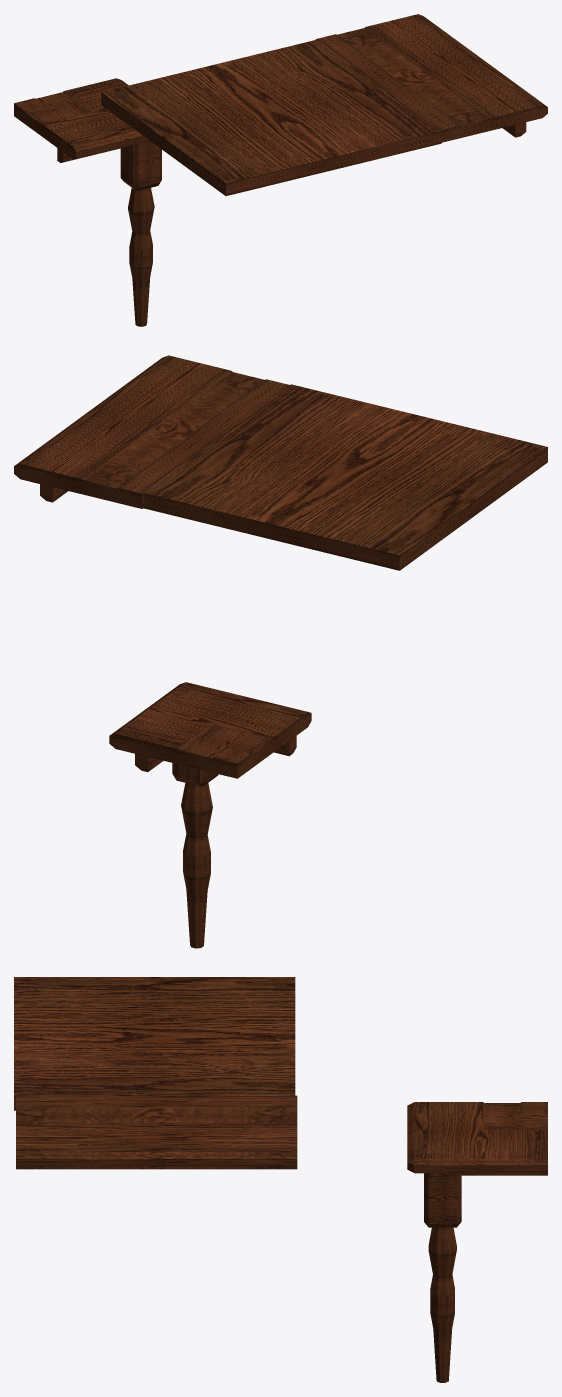
Rendered from table_corner.glb.
3 views of the same model, one above another, from view 1: azimuth 30°, elevation 25°; view 2: azimuth 150°, elevation 25°; view 3: azimuth 270°, elevation 25° (orthographic). The views are drawn at different scales.
Visible parts, largest first — view 1: object1.002, object1.005, object1.004; view 2: object1.002, object1.005, object1.004; view 3: object1.002, object1.005, object1.004.
Boxes of the visible parts, left/top/right/bottom form: object1.002: left=101, top=39, right=441, bottom=195; object1.005: left=315, top=14, right=547, bottom=142; object1.004: left=14, top=78, right=161, bottom=326; object1.002: left=143, top=384, right=547, bottom=570; object1.005: left=14, top=355, right=290, bottom=508; object1.004: left=109, top=682, right=311, bottom=948; object1.002: left=14, top=977, right=295, bottom=1110; object1.005: left=16, top=1095, right=297, bottom=1169; object1.004: left=407, top=1102, right=547, bottom=1382.
Size of the model in its own units: 8.76 by 7.91 by 11.09.
Materials: 1 (1 with a texture image).
